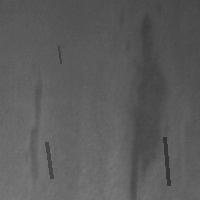inclusion: (127, 11, 170, 198), (20, 64, 45, 184), (162, 135, 170, 187), (44, 140, 53, 180), (56, 44, 62, 65)
